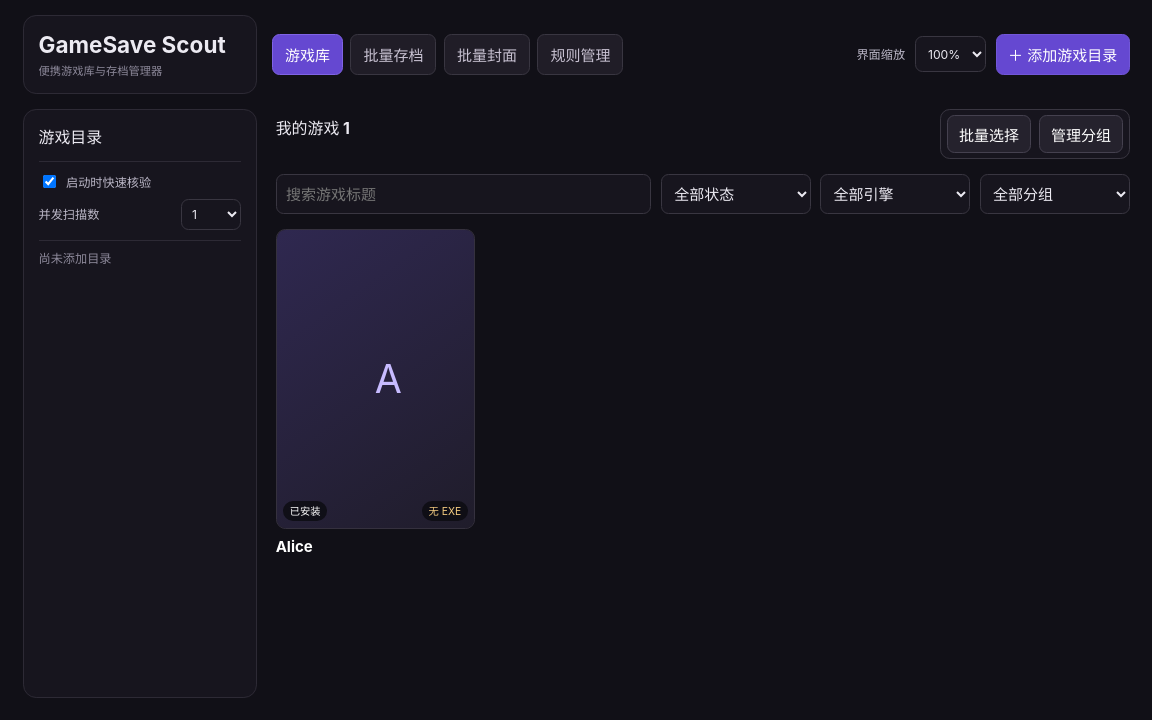
Test case: App › keeps one batch-mode toggle in the fixed heading
Step 1. Click the button with test id "enter-batch-mode" → (989, 134), box [947,115,1031,153]
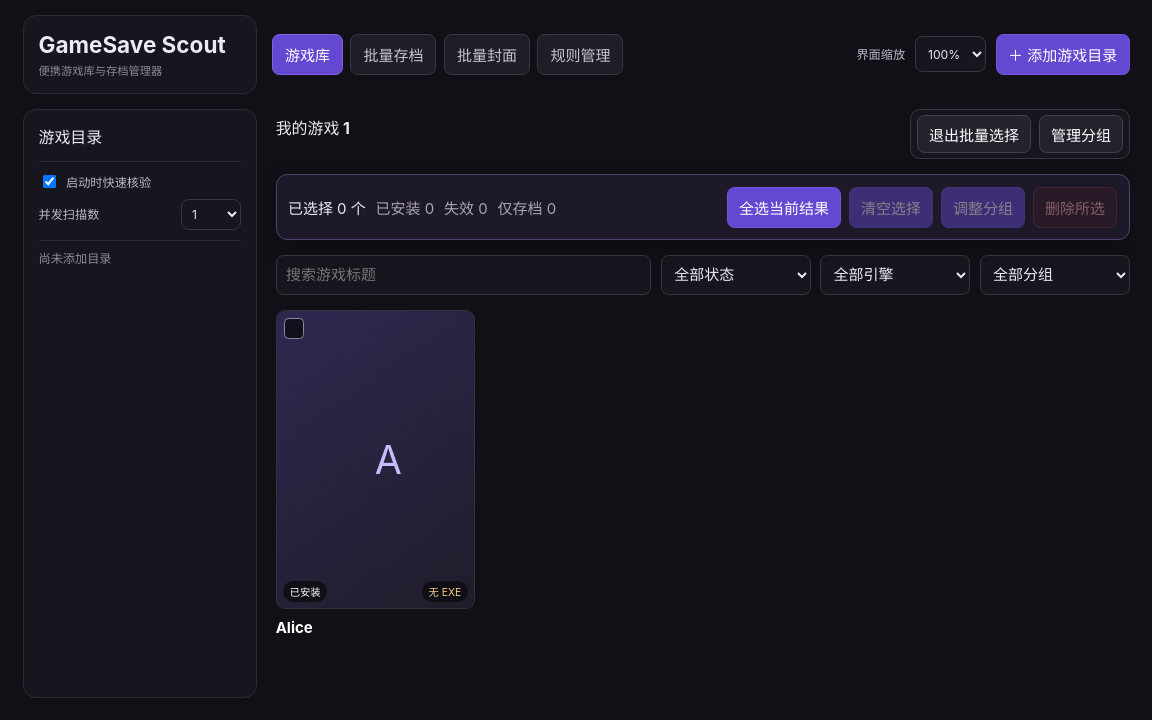
Check: the element with test id "batch-management-bar" does not show "退出批量选择"
Check: the button with test id "enter-batch-mode" reads "退出批量选择"
Step 2. Click the button with test id "enter-batch-mode" → (974, 134), box [917,115,1031,153]
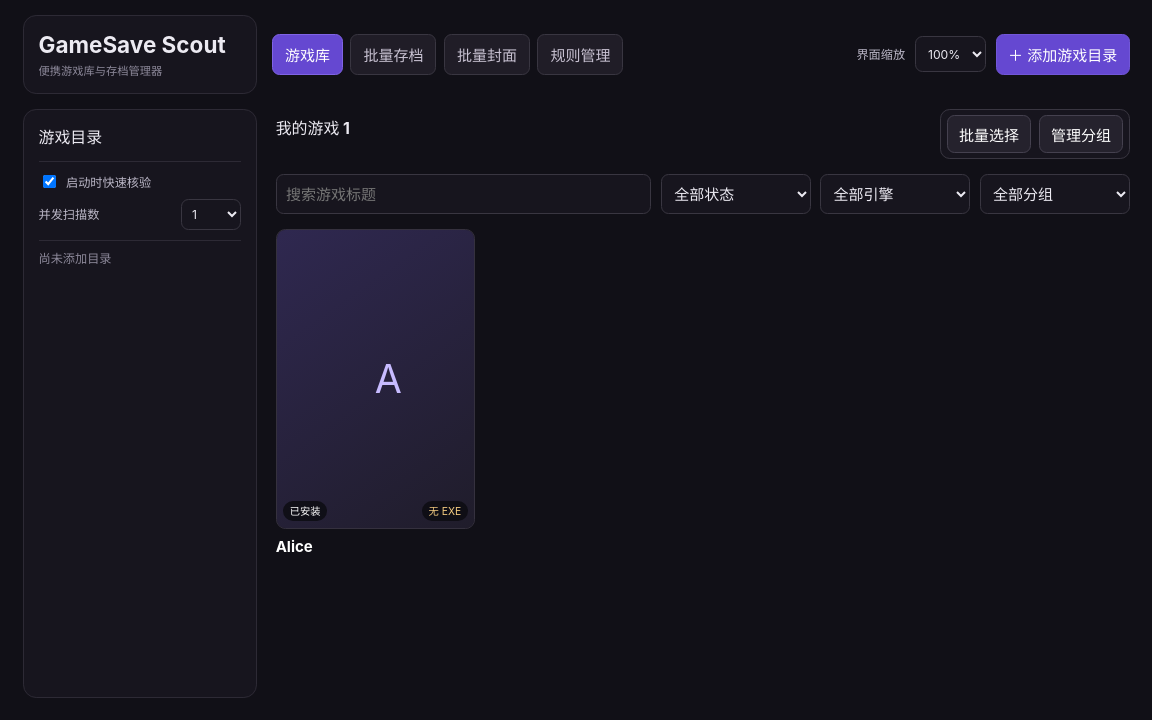
Check: the button with test id "enter-batch-mode" reads "批量选择", box [947,115,1031,153]
